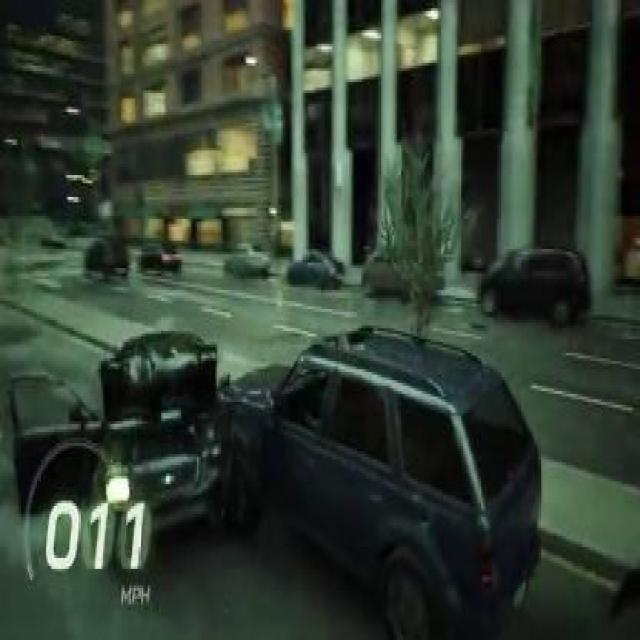accident: (0, 304, 548, 637)
